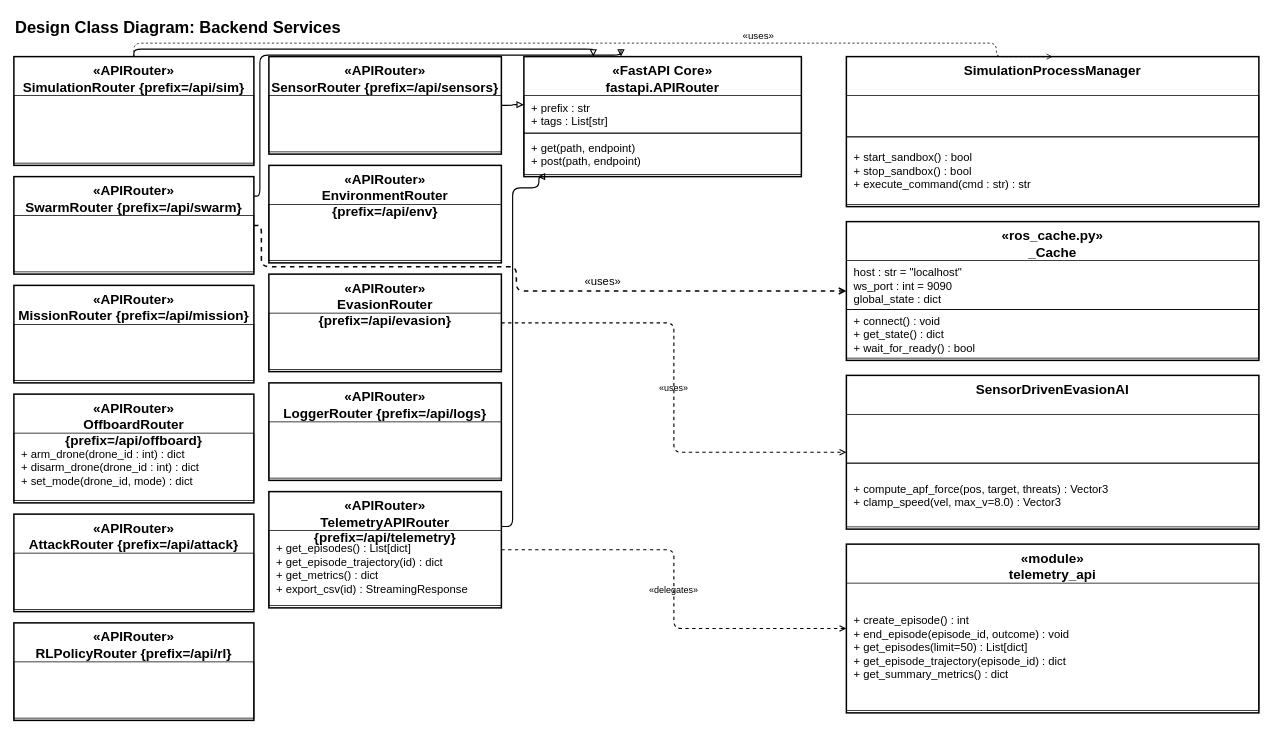
Image size: 1272x734. Some labels were removed from this diagram. The centre of each missing label's shape, as x and y in pixels:
+ compute_setpoint(pos, threat) : Vector3 + set_evasion_mode(mode) : dict: point (384, 340)
+ configure_attack(type, intensity) : dict + clear_attacks() : dict: point (133, 580)
+ get_rl_action(state) : dict + get_policy_status() : dict: point (133, 689)
+ get_sensor_profiles() : List[dict] + set_degradation(params) : dict: point (384, 123)
+ record_telemetry(data : dict) : dict + get_active_logs() : List[dict]: point (384, 449)
+ set_base_positions(h_a, h_d) : dict + start_duel() : dict: point (133, 243)
+ set_weather(wind, turbulence) : dict + get_environment() : dict: point (384, 232)
+ start_attack_defend(atk, def) : dict + abort_mission() : dict: point (133, 352)
+ start_sim() : dict + stop_sim() : dict + get_status() : dict: point (133, 129)
compose_process : subprocess.Popen container_name : str = "intelliswarm": point (1052, 116)
k_attract : float = 1.0 k_repulse : float = 2.5 d0 : float = 15.0: point (1052, 438)
